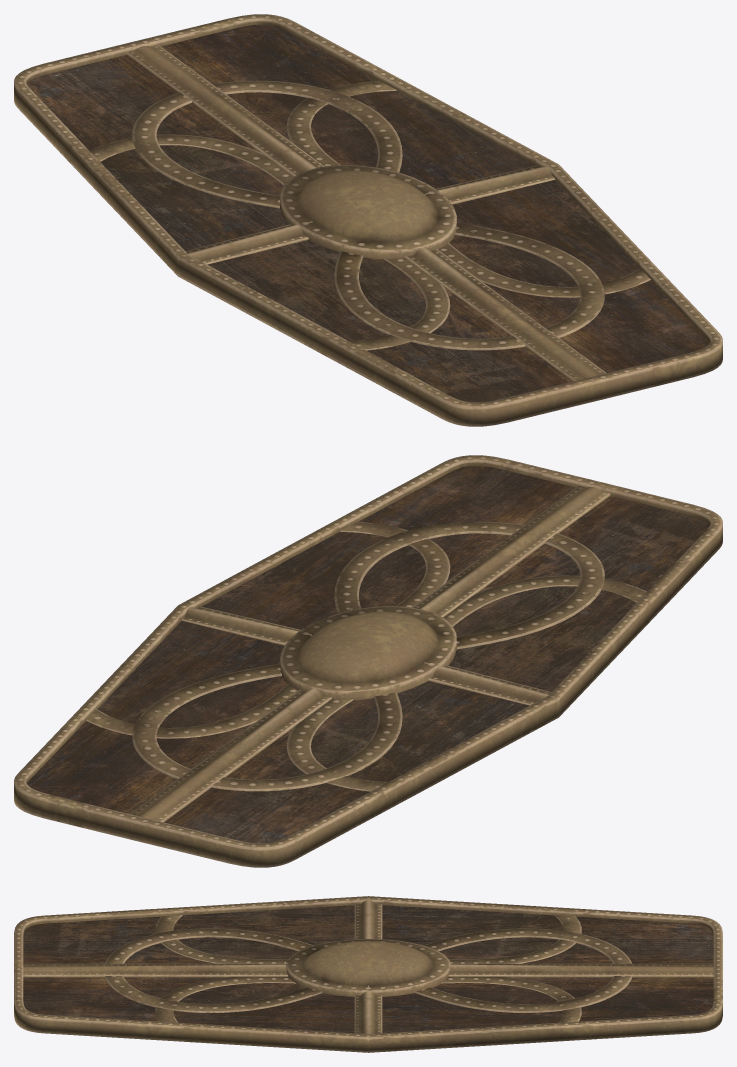
File: dunland_wulf_shield_heavy_b.fbx
3 renders of one model, top to bottom at view 1: azimuth 30°, elevation 25°; view 2: azimuth 150°, elevation 25°; view 3: azimuth 270°, elevation 25°, orthographic. The views are drawn at different scales.
Visible parts, largest first — view 1: dunland_wulf_shield_heavy_b; view 2: dunland_wulf_shield_heavy_b; view 3: dunland_wulf_shield_heavy_b.
Boxes of the visible parts, x1,y1,x2,y2 form: dunland_wulf_shield_heavy_b: (14,14,722,426); dunland_wulf_shield_heavy_b: (14,455,722,867); dunland_wulf_shield_heavy_b: (14,896,722,1052).
Size of the model in its own units: 0.72 by 1.52 by 0.0806.
Materials: 1 (1 with a texture image).
